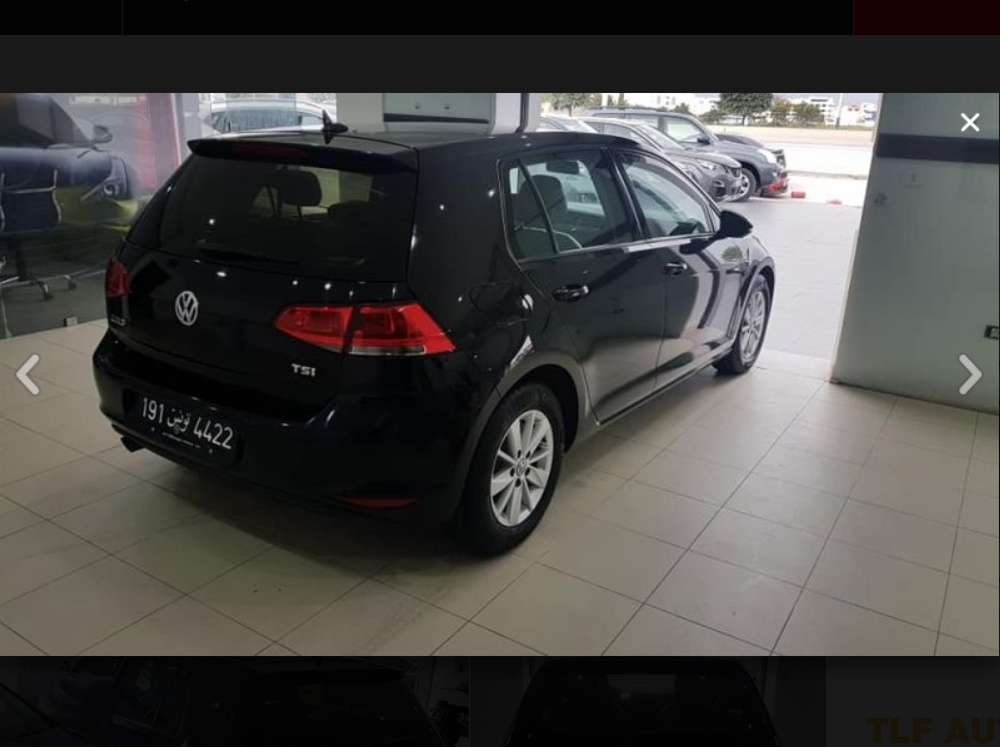LP: (133, 393, 250, 461)
